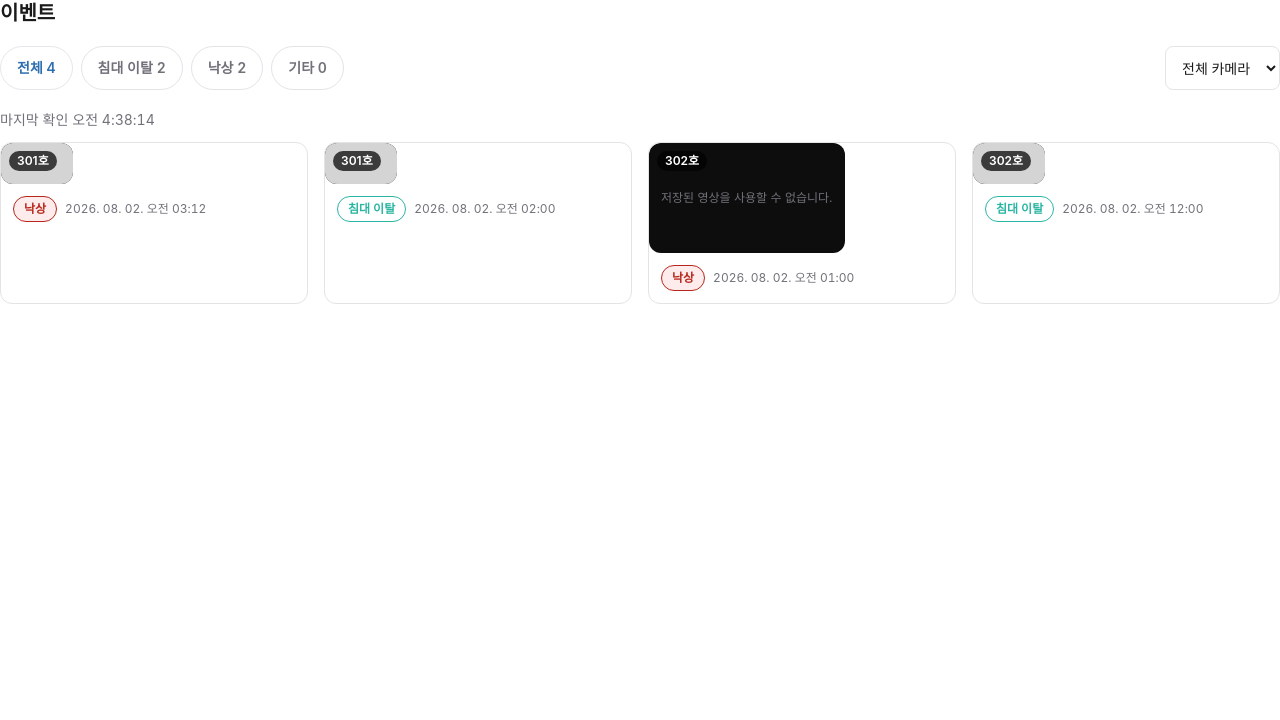
Scenario: EventsPage › shows explicit unavailable states in the grid and modal
The width and height of the screenshot is (1280, 720).
Expected: the text with test id "clip-thumbnail-unavailable" reads "저장된 영상을 사용할 수 없습니다.", [661,190,832,205]
Click the button with test id "clip-thumbnail-unavailable": [802, 223] box [648,142,956,304]
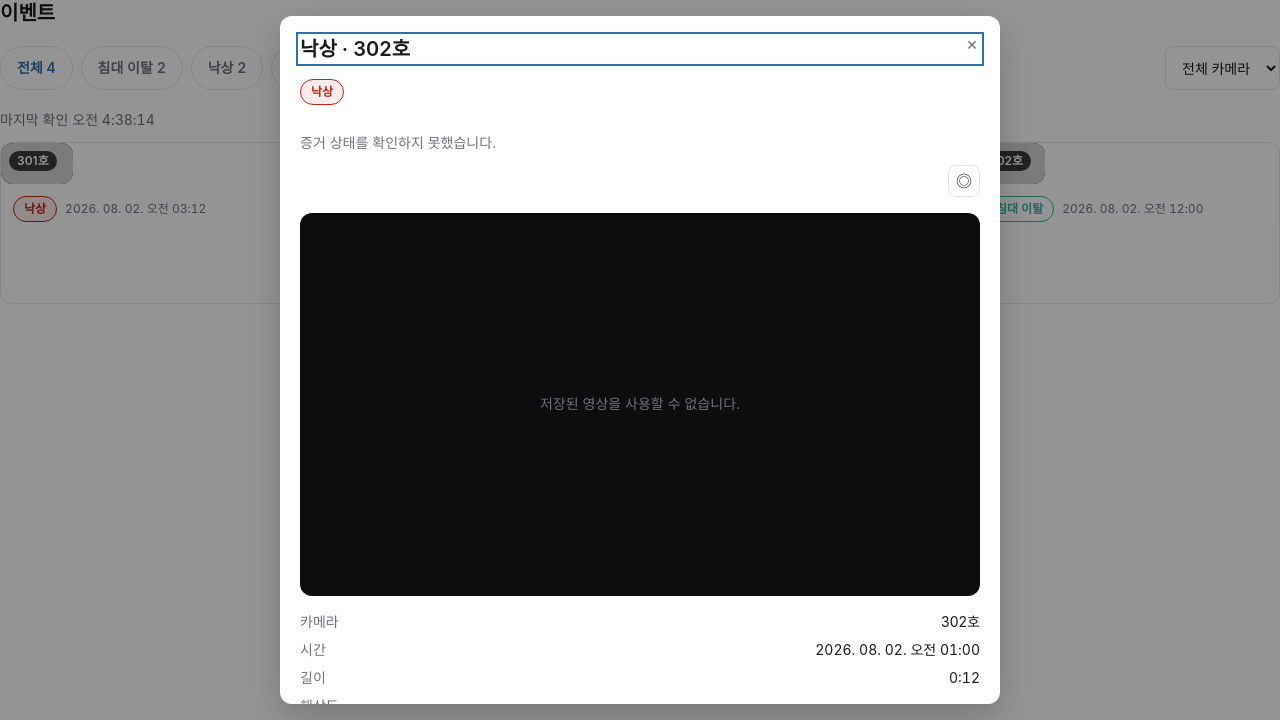
Now the text with test id "clip-modal-unavailable" reads "저장된 영상을 사용할 수 없습니다.", box [540,395,740,412]
